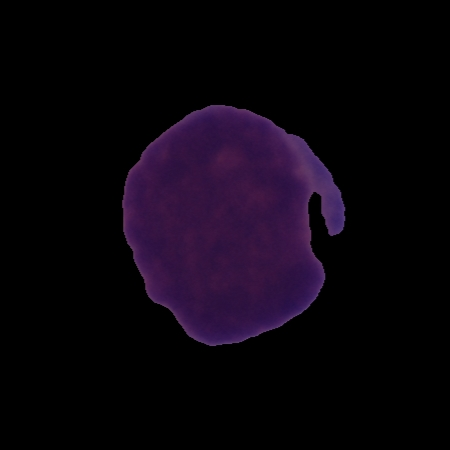ALL: (119, 101, 348, 350)
